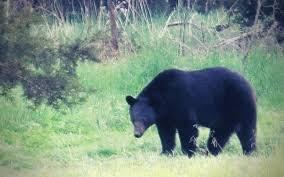bear: (124, 67, 258, 157)
